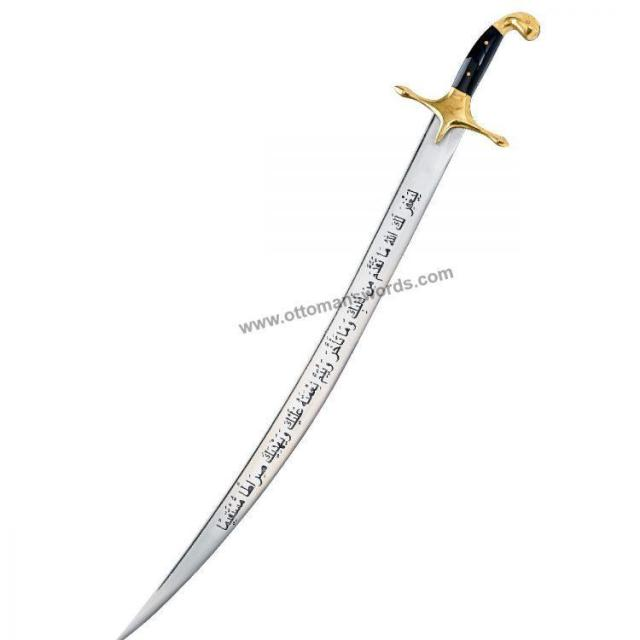weapon: (111, 7, 544, 640)
